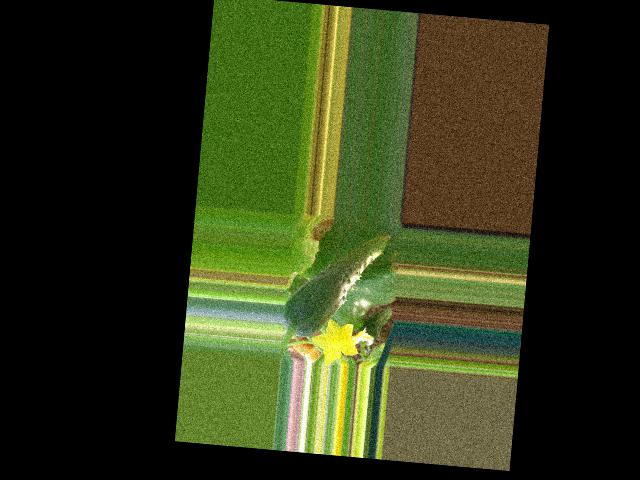cucumber: (281, 225, 391, 344)
